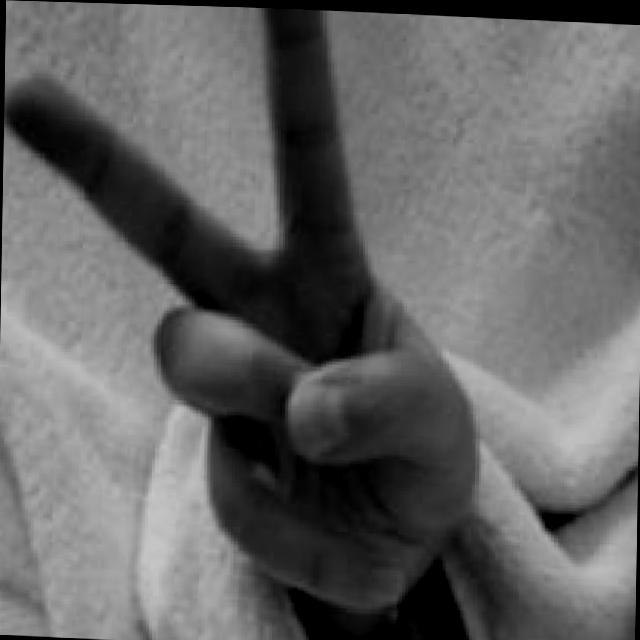V: (0, 0, 482, 613)
